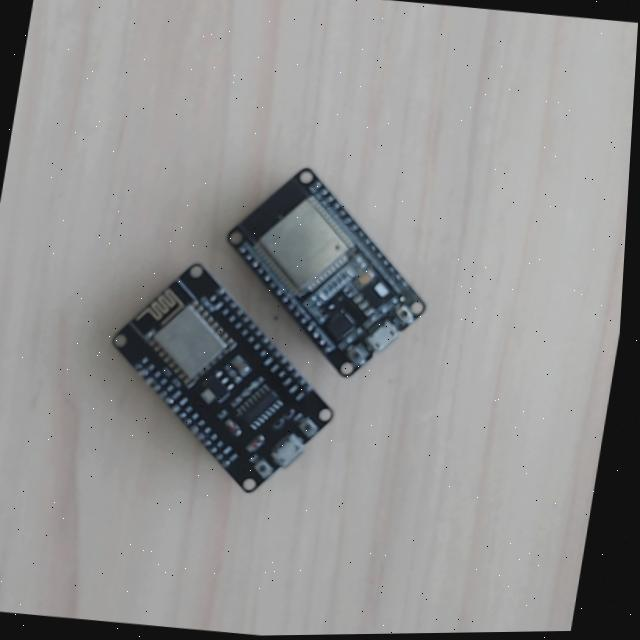ESP32-DevKit: (223, 165, 429, 380)
ESP8266-NodeMCU: (106, 258, 340, 499), (221, 165, 427, 379)
